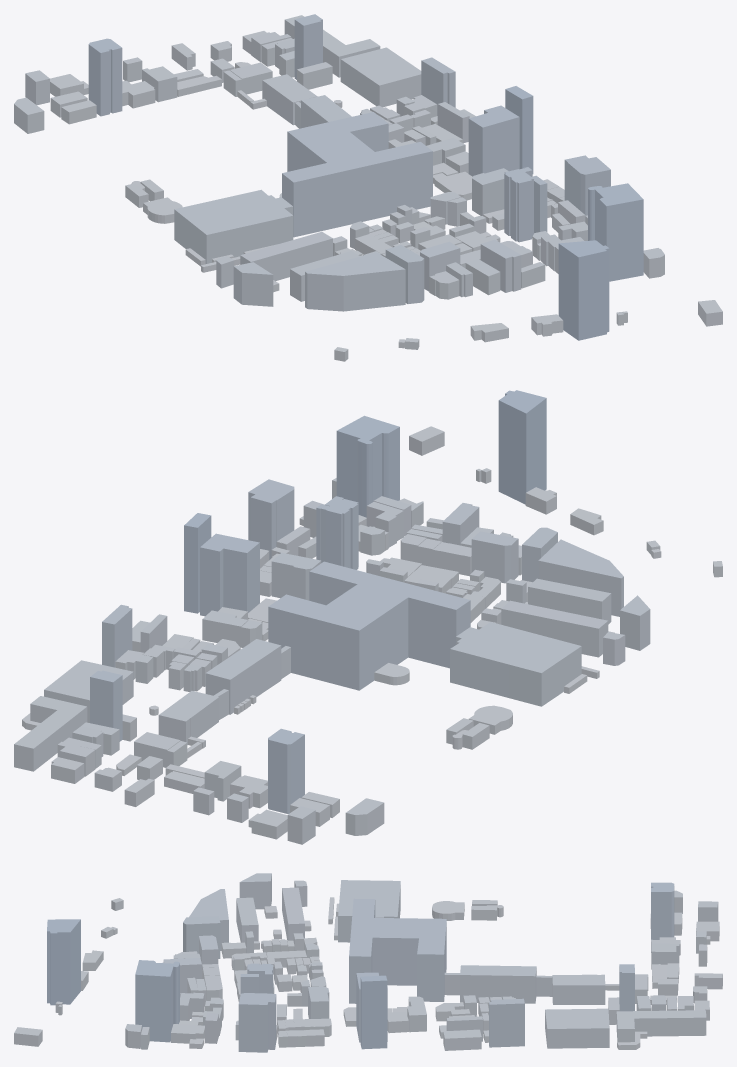
The picture shows the model from 3 angles, top to bottom: view 1: azimuth 30°, elevation 25°; view 2: azimuth 150°, elevation 25°; view 3: azimuth 270°, elevation 25°; orthographic projection. The views are drawn at different scales.
Size of the model in its own units: 199 by 44.11 by 393.
